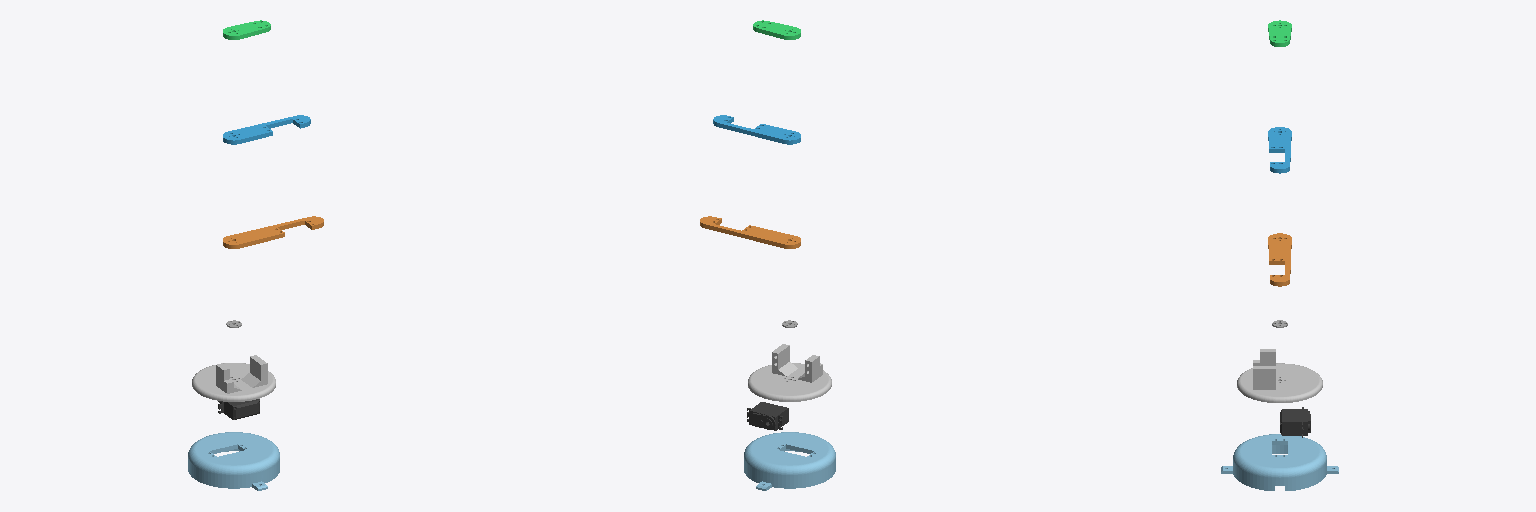
robot.urdf — robot_arm_description:
<?xml version="1.0"?>
<robot name="robot_arm_description">

  <!-- base -->
  <link name="base">
    <visual>
      <origin xyz="0 0 0" rpy="0 0 0"/>
      <geometry>
        <mesh filename="package://robot_arm_description/meshes/base.stl"/>
      </geometry>
      <material name="base_color">
        <color rgba="0.6 0.8 0.9 1"/>
      </material>
    </visual>
    <collision>
      <origin xyz="0 0 0" rpy="0 0 0"/>
      <geometry>
        <mesh filename="package://robot_arm_description/meshes/base.stl"/>
      </geometry>
    </collision>
  </link>

  <!-- servo1 -->
  <link name="servo1">
    <visual>
      <origin xyz="0 0 0" rpy="0 0 0"/>
      <geometry>
        <mesh filename="package://robot_arm_description/meshes/servo1.stl"/>
      </geometry>
      <material name="servo_color">
        <color rgba="0.3 0.3 0.3 1"/>
      </material>
    </visual>
    <collision>
      <origin xyz="0 0 0" rpy="0 0 0"/>
      <geometry>
        <mesh filename="package://robot_arm_description/meshes/servo1.stl"/>
      </geometry>
    </collision>
  </link>

  <joint name="base_to_servo1" type="fixed">
    <parent link="base"/>
    <child link="servo1"/>
    <origin xyz="0 0 0.05" rpy="0 0 0"/>
  </joint>

  <!-- rotate_base -->
  <link name="rotate_base">
    <visual>
      <origin xyz="0 0 0" rpy="0 0 0"/>
      <geometry>
        <mesh filename="package://robot_arm_description/meshes/rotate_base.stl"/>
      </geometry>
      <material name="rotate_base_color">
        <color rgba="0.8 0.8 0.8 1"/>
      </material>
    </visual>
    <collision>
      <origin xyz="0 0 0" rpy="0 0 0"/>
      <geometry>
        <mesh filename="package://robot_arm_description/meshes/rotate_base.stl"/>
      </geometry>
    </collision>
  </link>

  <joint name="servo1_to_rotate_base" type="fixed">
    <parent link="servo1"/>
    <child link="rotate_base"/>
    <origin xyz="0 0 0.05" rpy="0 0 0"/>
  </joint>

  <!-- joint -->
  <link name="joint">
    <visual>
      <origin xyz="0 0 0" rpy="0 0 0"/>
      <geometry>
        <mesh filename="package://robot_arm_description/meshes/joint.stl"/>
      </geometry>
      <material name="joint_color">
        <color rgba="0.7 0.7 0.7 1"/>
      </material>
    </visual>
    <collision>
      <origin xyz="0 0 0" rpy="0 0 0"/>
      <geometry>
        <mesh filename="package://robot_arm_description/meshes/joint.stl"/>
      </geometry>
    </collision>
  </link>

  <joint name="rotate_base_to_joint" type="fixed">
    <parent link="rotate_base"/>
    <child link="joint"/>
    <origin xyz="0 0 0.08" rpy="0 0 0"/>
  </joint>

  <!-- link1 -->
  <link name="link1">
    <visual>
      <origin xyz="0 0 0" rpy="0 0 0"/>
      <geometry>
        <mesh filename="package://robot_arm_description/meshes/link1.stl"/>
      </geometry>
      <material name="link1_color">
        <color rgba="0.9 0.6 0.3 1"/>
      </material>
    </visual>
    <collision>
      <origin xyz="0 0 0" rpy="0 0 0"/>
      <geometry>
        <mesh filename="package://robot_arm_description/meshes/link1.stl"/>
      </geometry>
    </collision>
  </link>

  <joint name="joint_to_link1" type="fixed">
    <parent link="joint"/>
    <child link="link1"/>
    <origin xyz="0 0 0.12" rpy="0 0 0"/>
  </joint>

  <!-- link2 -->
  <link name="link2">
    <visual>
      <origin xyz="0 0 0" rpy="0 0 0"/>
      <geometry>
        <mesh filename="package://robot_arm_description/meshes/link2.stl"/>
      </geometry>
      <material name="link2_color">
        <color rgba="0.3 0.7 0.9 1"/>
      </material>
    </visual>
    <collision>
      <origin xyz="0 0 0" rpy="0 0 0"/>
      <geometry>
        <mesh filename="package://robot_arm_description/meshes/link2.stl"/>
      </geometry>
    </collision>
  </link>

  <joint name="link1_to_link2" type="fixed">
    <parent link="link1"/>
    <child link="link2"/>
    <origin xyz="0 0 0.15" rpy="0 0 0"/>
  </joint>

  <!-- link2__2 -->
  <link name="link2_2">
    <visual>
      <origin xyz="0 0 0" rpy="0 0 0"/>
      <geometry>
        <mesh filename="package://robot_arm_description/meshes/link2__2.stl"/>
      </geometry>
      <material name="link2_2_color">
        <color rgba="0.3 0.9 0.5 1"/>
      </material>
    </visual>
    <collision>
      <origin xyz="0 0 0" rpy="0 0 0"/>
      <geometry>
        <mesh filename="package://robot_arm_description/meshes/link2__2.stl"/>
      </geometry>
    </collision>
  </link>

  <joint name="link2_to_link2_2" type="fixed">
    <parent link="link2"/>
    <child link="link2_2"/>
    <origin xyz="0 0 0.15" rpy="0 0 0"/>
  </joint>

</robot>

--- What the picture shows (computed from the rendered views, not written in the file) ---
3 views of the same robot in one strip: view 1: azimuth 30°, elevation 25°; view 2: azimuth 150°, elevation 25°; view 3: azimuth 270°, elevation 25° (orthographic).
Robot: robot_arm_description — 7 links, 6 joints (6 fixed); root link base; default pose: all joints at 0.
Visible links, largest first — view 1: base, rotate_base, link1, link2, servo1, link2_2; view 2: base, rotate_base, link1, link2, servo1, link2_2; view 3: base, rotate_base, link1, link2, servo1, link2_2.
Boxes of the visible links, <box> form: base: <box>188,432,279,490</box>; rotate_base: <box>192,355,275,401</box>; link1: <box>223,216,323,248</box>; link2: <box>223,115,310,144</box>; servo1: <box>218,399,259,419</box>; link2_2: <box>223,20,270,39</box>; base: <box>744,432,835,490</box>; rotate_base: <box>748,344,831,401</box>; link1: <box>700,216,800,248</box>; link2: <box>713,115,800,144</box>; servo1: <box>747,402,788,430</box>; link2_2: <box>753,20,800,39</box>; base: <box>1221,434,1338,490</box>; rotate_base: <box>1237,349,1322,402</box>; link1: <box>1268,233,1291,286</box>; link2: <box>1268,127,1291,173</box>; servo1: <box>1280,407,1310,437</box>; link2_2: <box>1268,20,1291,46</box>.
Size in the robot's own frame: 0.193 by 0.15 by 0.629 metres.
Meshes: 7 distinct files referenced, 7 mesh visuals loaded (7 binary STL).
